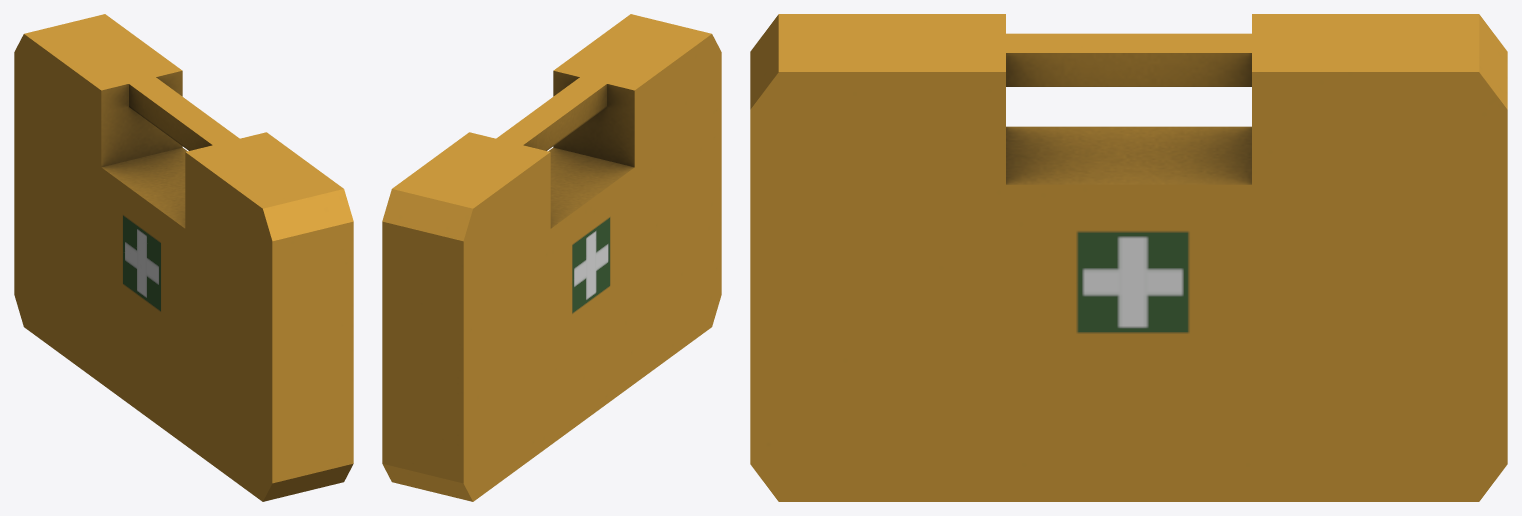
The model's file is Radkit.fbx.
3 views of the same model, side by side, from view 1: azimuth 30°, elevation 25°; view 2: azimuth 150°, elevation 25°; view 3: azimuth 270°, elevation 25° (orthographic). The views are drawn at different scales.
Parts seen in each view (by area): view 1: Radkit; view 2: Radkit; view 3: Radkit.
Part boxes in pixels (<box>): Radkit: <box>14,14,353,501</box>; Radkit: <box>382,14,721,501</box>; Radkit: <box>750,14,1507,501</box>.
Bounding box in the file's own units: 0.5537 × 1.91 × 3.05.
